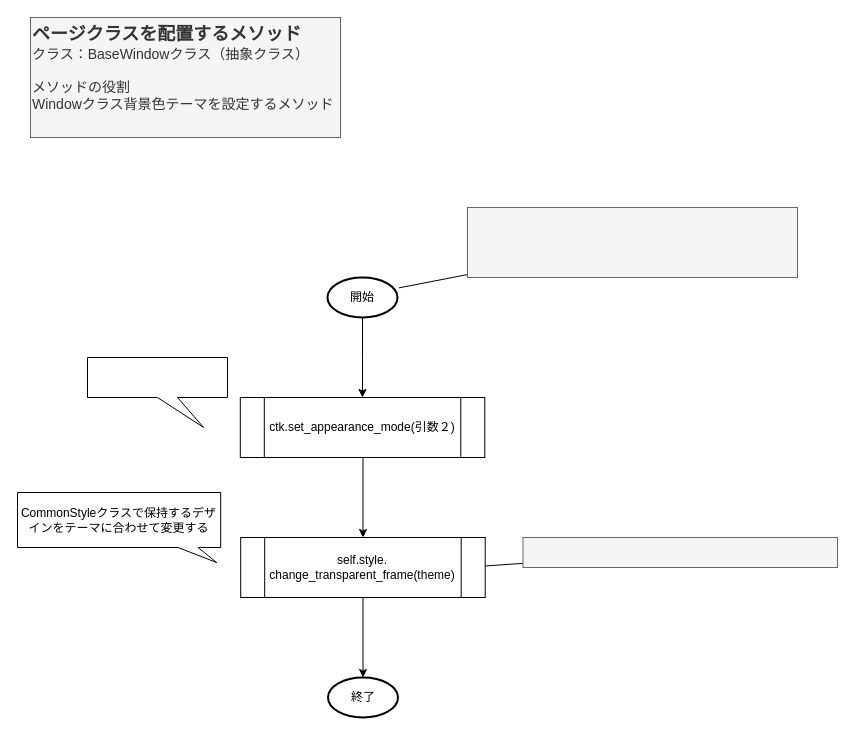
This 855x736 diagram has some shape labels left out. The centre of each missing label's shape, as x and y in pixels:
Windowの背景色設定: the point at 157,392
初期化メソッド ※インスタンス生成時に実行されます。 引数１：self >インスタンス自身 引数２：theme > Windowクラスの背景色テーマ（Str型）: the point at 632,242
引数１：theme > Windowクラスの背景色テーマ（Str型）: the point at 680,552
